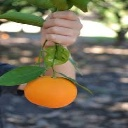orange: (23, 67, 80, 110)
